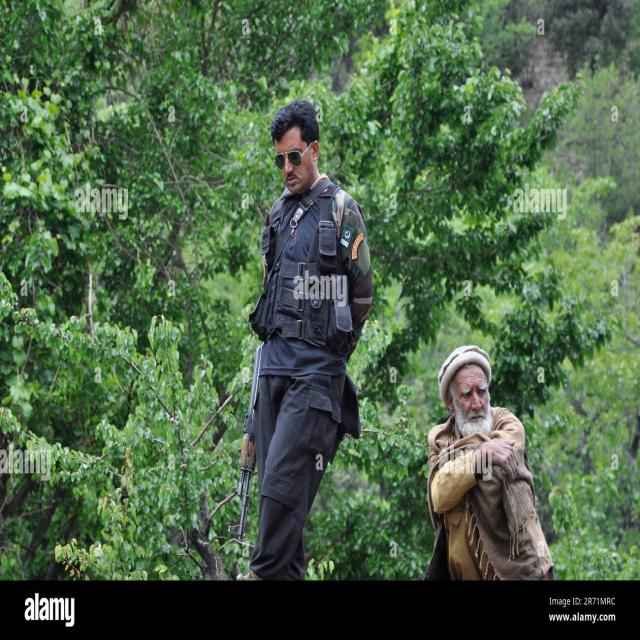Forest: (0, 0, 640, 579)
Militant: (234, 83, 390, 578), (414, 325, 570, 576)
